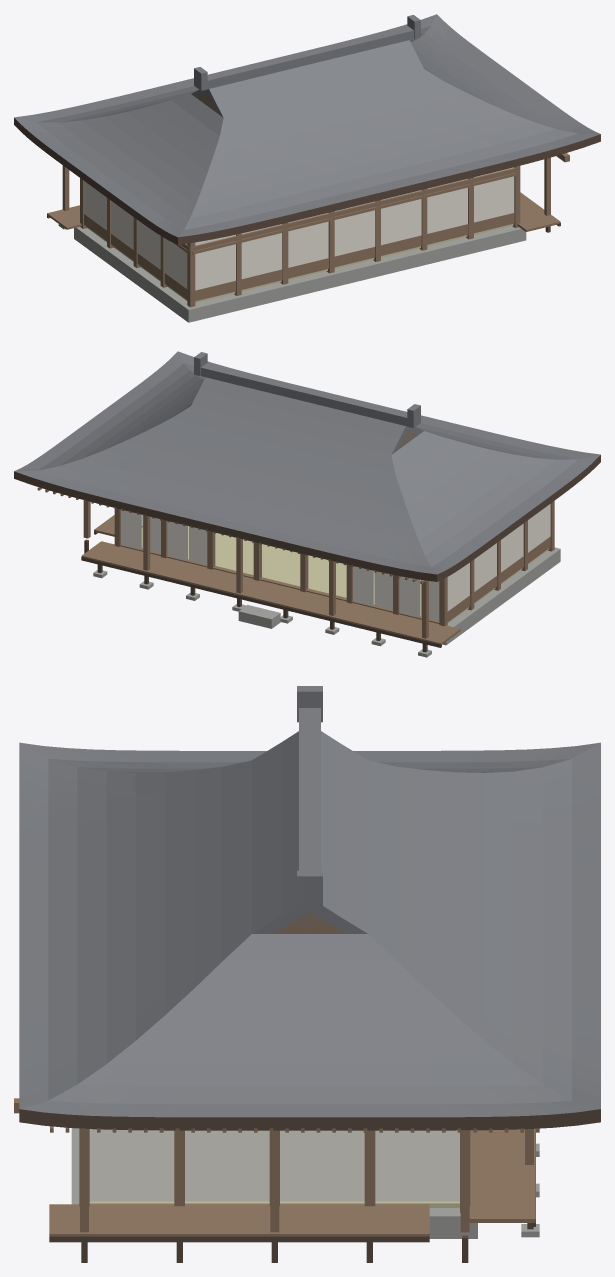
File: temple.glb
The picture shows the model from 3 angles, top to bottom: view 1: azimuth 30°, elevation 25°; view 2: azimuth 150°, elevation 25°; view 3: azimuth 270°, elevation 25°; orthographic projection. The views are drawn at different scales.
Visible parts, largest first — view 1: Temple; view 2: Temple; view 3: Temple.
Boxes of the visible parts, bbox=[...] form: Temple: bbox=[14, 14, 600, 322]; Temple: bbox=[14, 351, 600, 657]; Temple: bbox=[14, 686, 600, 1262].
Bounding box in the file's own units: 16.59 × 6.9 × 11.23.
